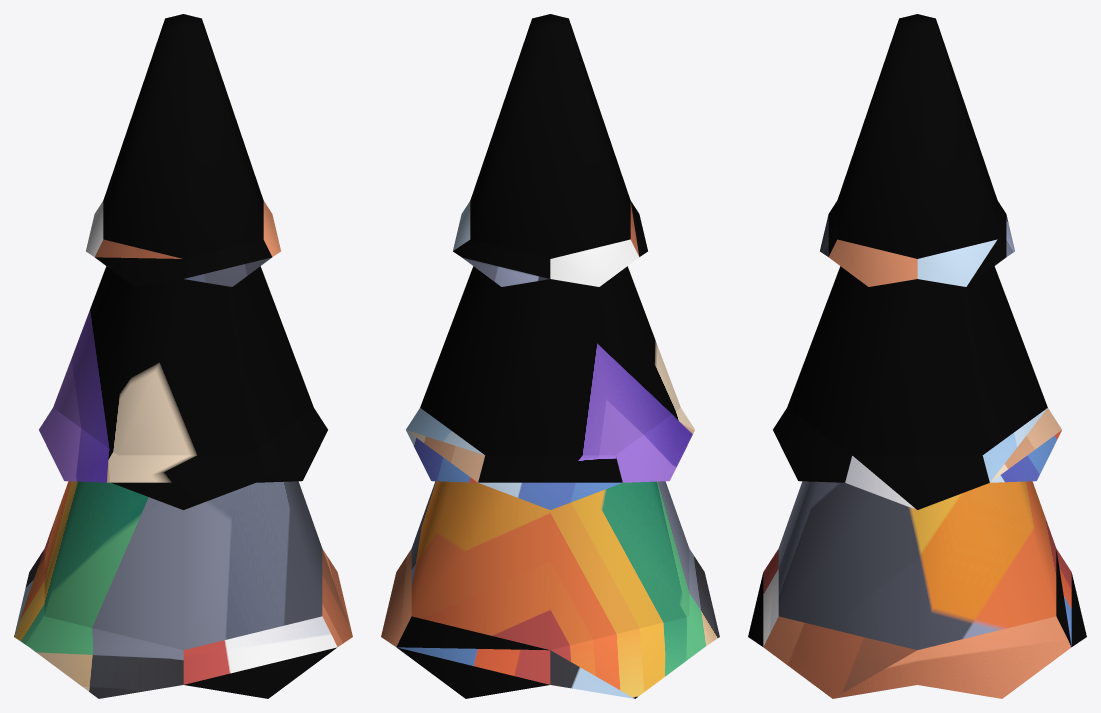
File: SM_Tree_A.fbx
3 views of the same model, side by side, from view 1: azimuth 30°, elevation 25°; view 2: azimuth 150°, elevation 25°; view 3: azimuth 270°, elevation 25° (orthographic).
Visible parts, largest first — view 1: tree-tall; view 2: tree-tall; view 3: tree-tall.
Boxes of the visible parts, x1,y1,x2,y2 form: tree-tall: (14, 14, 352, 698); tree-tall: (381, 14, 719, 698); tree-tall: (748, 14, 1086, 698).
Size of the model in its own units: 57.29 by 109 by 54.53.
